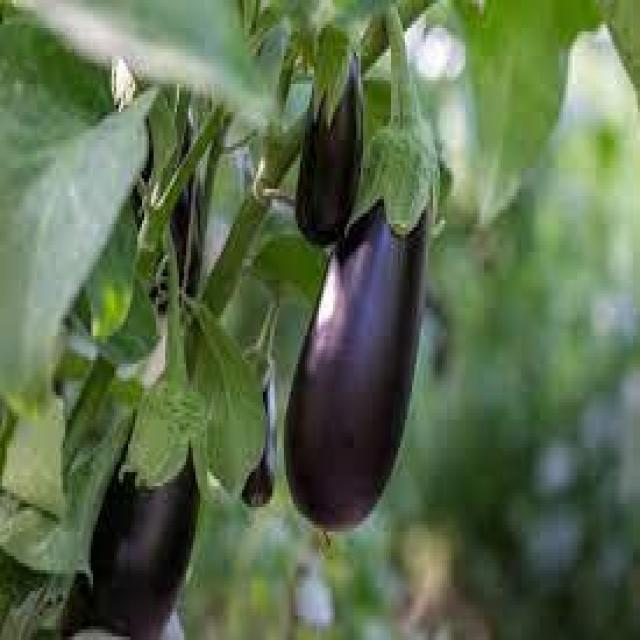eggplant: (281, 10, 446, 530), (89, 226, 207, 635), (293, 23, 362, 247)
